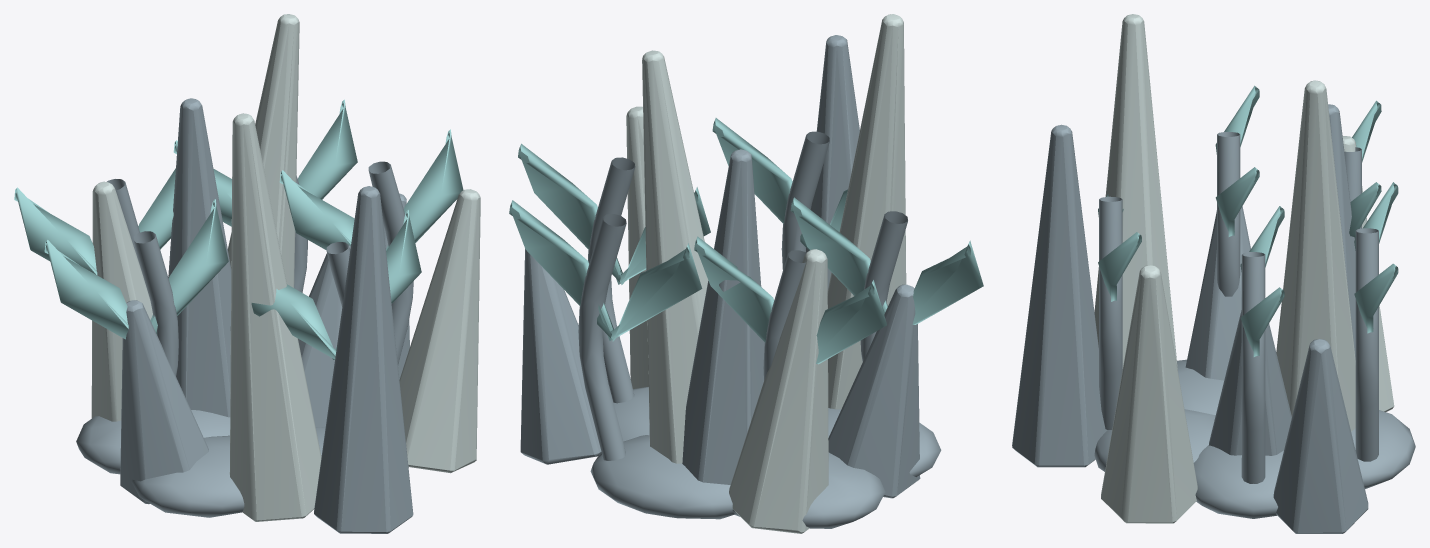
The model's file is bio_crystal_fan_02_far.glb.
3 renders of one model, left to right at view 1: azimuth 30°, elevation 25°; view 2: azimuth 150°, elevation 25°; view 3: azimuth 270°, elevation 25°, orthographic. The views are drawn at different scales.
Parts seen in each view (by area): view 1: Reflecting mineral prism.007, Reflecting mineral prism.002, Reflecting mineral prism.005, Reflecting mineral prism.006, Reflecting mineral prism.004, Mineral substrate, Reflecting mineral prism.003, Reflecting mineral prism.001, Secondary fan lobe.008, Secondary fan lobe, Secondary fan lobe.002, Secondary fan lobe.004 (+7 smaller); view 2: Reflecting mineral prism.001, Reflecting mineral prism.003, Reflecting mineral prism.006, Mineral substrate, Reflecting mineral prism.007, Reflecting mineral prism.004, Reflecting mineral prism.008, Secondary fan lobe.006, Secondary fan lobe.008, Secondary fan lobe.002, Branching support.003, Reflecting mineral prism.002 (+7 smaller); view 3: Reflecting mineral prism.002, Reflecting mineral prism.005, Reflecting mineral prism.003, Reflecting mineral prism.008, Reflecting mineral prism.007, Mineral substrate, Reflecting mineral prism, Branching support, Reflecting mineral prism.004, Branching support.003, Branching support.002, Branching support.004 (+8 smaller).
Part boxes in pixels (<box>): Reflecting mineral prism.007: <box>229,113,321,521</box>; Reflecting mineral prism.002: <box>314,186,413,533</box>; Reflecting mineral prism.005: <box>399,189,480,473</box>; Reflecting mineral prism.006: <box>168,98,231,417</box>; Reflecting mineral prism.004: <box>120,300,208,504</box>; Mineral substrate: <box>76,410,408,517</box>; Reflecting mineral prism.003: <box>227,14,299,344</box>; Reflecting mineral prism.001: <box>91,181,152,421</box>; Secondary fan lobe.008: <box>44,199,228,339</box>; Secondary fan lobe: <box>279,129,463,250</box>; Secondary fan lobe.002: <box>14,168,175,274</box>; Secondary fan lobe.004: <box>251,210,421,359</box>; Reflecting mineral prism.001: <box>729,249,828,533</box>; Reflecting mineral prism.003: <box>642,50,708,463</box>; Reflecting mineral prism.006: <box>682,149,764,484</box>; Mineral substrate: <box>590,387,941,528</box>; Reflecting mineral prism.007: <box>827,14,906,409</box>; Reflecting mineral prism.004: <box>828,284,920,498</box>; Reflecting mineral prism.008: <box>520,249,601,464</box>; Secondary fan lobe.006: <box>509,200,702,341</box>; Secondary fan lobe.008: <box>790,197,983,324</box>; Secondary fan lobe.002: <box>694,236,886,364</box>; Branching support.003: <box>578,214,626,460</box>; Reflecting mineral prism.002: <box>806,35,859,289</box>; Reflecting mineral prism.002: <box>1012,124,1107,467</box>; Reflecting mineral prism.005: <box>1101,265,1197,523</box>; Reflecting mineral prism.003: <box>1276,80,1355,431</box>; Reflecting mineral prism.008: <box>1273,339,1368,533</box>; Reflecting mineral prism.007: <box>1094,14,1177,370</box>; Mineral substrate: <box>1094,359,1415,518</box>; Reflecting mineral prism: <box>1209,310,1291,455</box>; Branching support: <box>1241,252,1265,483</box>; Reflecting mineral prism.004: <box>1185,206,1250,380</box>; Branching support.003: <box>1355,228,1378,461</box>; Branching support.002: <box>1099,196,1122,429</box>; Branching support.004: <box>1217,132,1240,296</box>.
Bounding box in the file's own units: 1.85 × 1.73 × 1.55.
